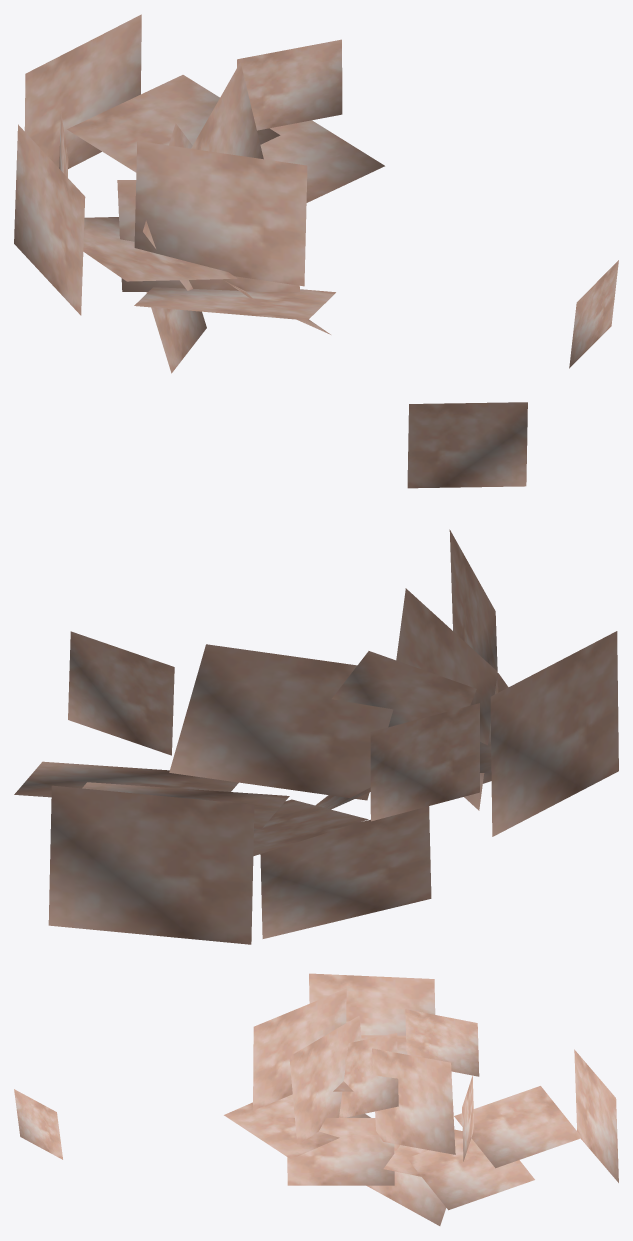
Rendered from stg220_MotCloud_10.obj.
3 renders of one model, top to bottom at view 1: azimuth 30°, elevation 25°; view 2: azimuth 150°, elevation 25°; view 3: azimuth 270°, elevation 25°, orthographic. The views are drawn at different scales.
Visible parts, largest first — view 1: polygon7, polygon1, polygon6, polygon0, polygon3, polygon4, polygon10, polygon8, polygon2, polygon14, polygon15, polygon13 (+1 smaller); view 2: polygon1, polygon2, polygon6, polygon13, polygon15, polygon11, polygon0, polygon14, polygon12, polygon4, polygon7, polygon5 (+1 smaller); view 3: polygon2, polygon3, polygon9, polygon7, polygon6, polygon14, polygon4, polygon11, polygon1, polygon12, polygon10, polygon15 (+4 smaller).
Part boxes in pixels (<box>): polygon7: <box>134,141,307,286</box>; polygon1: <box>24,14,141,168</box>; polygon6: <box>14,124,85,315</box>; polygon0: <box>237,39,342,130</box>; polygon3: <box>67,75,280,172</box>; polygon4: <box>260,120,384,202</box>; polygon10: <box>134,287,335,320</box>; polygon8: <box>83,217,237,281</box>; polygon2: <box>191,62,263,159</box>; polygon14: <box>117,180,299,291</box>; polygon15: <box>569,260,618,368</box>; polygon13: <box>146,292,206,373</box>; polygon1: <box>48,785,254,944</box>; polygon2: <box>169,644,393,800</box>; polygon6: <box>490,631,618,836</box>; polygon13: <box>260,806,431,938</box>; polygon15: <box>407,402,527,488</box>; polygon11: <box>370,703,479,821</box>; polygon0: <box>68,631,174,755</box>; polygon14: <box>396,588,497,810</box>; polygon12: <box>332,651,490,727</box>; polygon4: <box>14,761,238,797</box>; polygon7: <box>449,529,498,694</box>; polygon5: <box>253,799,368,856</box>; polygon2: <box>372,1048,455,1154</box>; polygon3: <box>454,1086,581,1168</box>; polygon9: <box>287,1118,394,1185</box>; polygon7: <box>253,988,346,1110</box>; polygon6: <box>309,973,435,1035</box>; polygon14: <box>289,1016,361,1144</box>; polygon4: <box>407,1138,534,1210</box>; polygon11: <box>405,1009,479,1076</box>; polygon1: <box>574,1049,618,1182</box>; polygon12: <box>339,1033,398,1117</box>; polygon10: <box>224,1094,370,1158</box>; polygon15: <box>14,1089,62,1159</box>.
Size of the model in its own units: 2729 by 1744 by 5009.
Materials: 1 (1 with a texture image).
